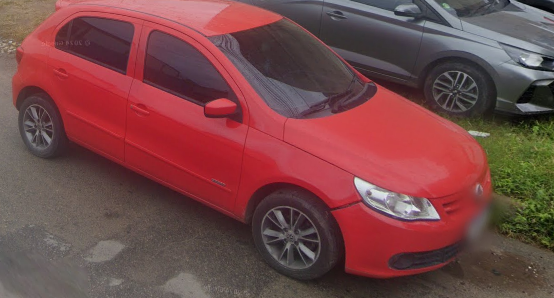car: (16, 1, 497, 280)
